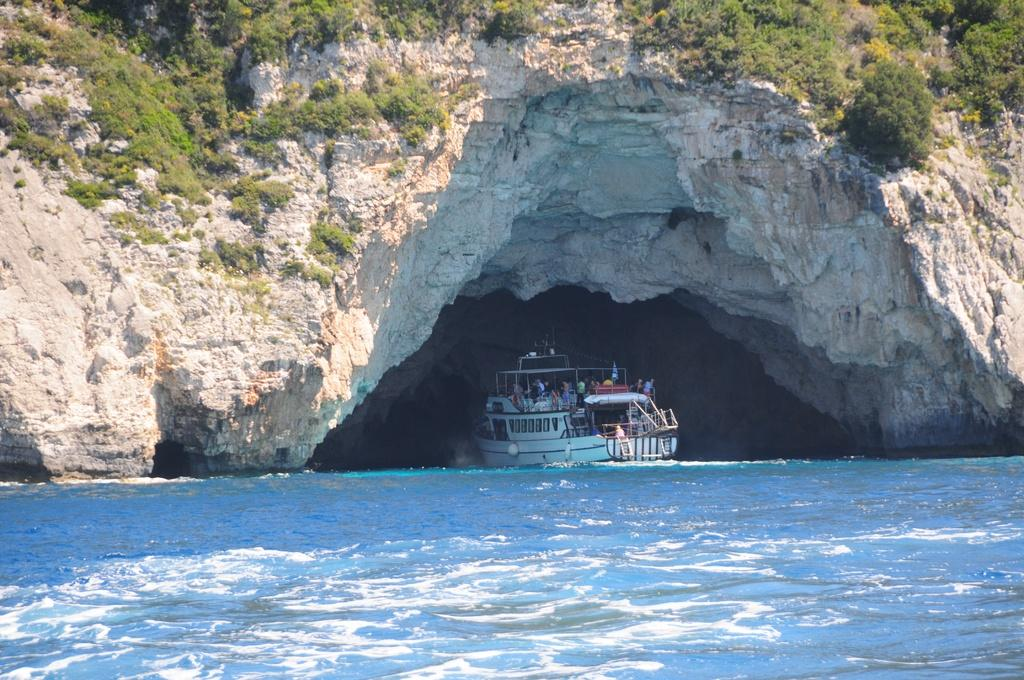PassengerShip: (468, 350, 688, 477)
